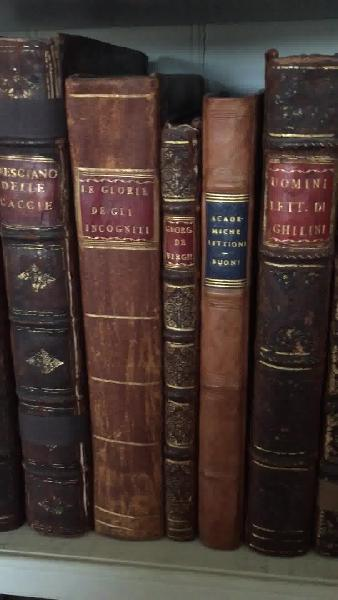Aa6-32: (3, 40, 91, 542)
Aa6-33: (61, 69, 165, 550)
Aa6-34: (155, 107, 197, 553)
Aa6-35: (196, 93, 250, 550)
Aa6-36: (248, 47, 334, 564)
